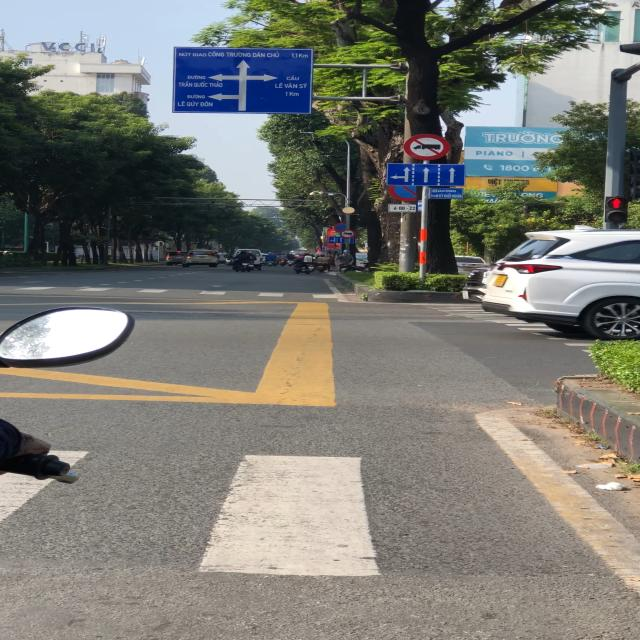Bien bao cam xe so-mi ro-mooc: (402, 132, 454, 162)
